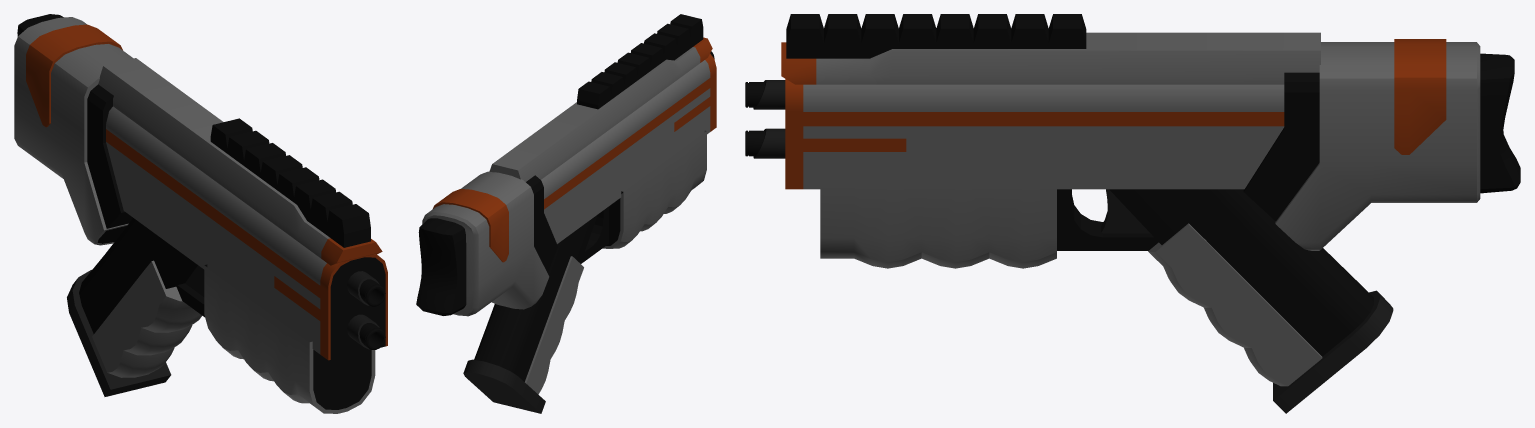
File: Pistol_3.fbx
The picture shows the model from 3 angles, left to right: view 1: azimuth 30°, elevation 25°; view 2: azimuth 150°, elevation 25°; view 3: azimuth 270°, elevation 25°; orthographic projection. The views are drawn at different scales.
Parts seen in each view (by area): view 1: Pistol_3; view 2: Pistol_3; view 3: Pistol_3.
Boxes of the visible parts, x1,y1,x2,y2 form: Pistol_3: (14, 14, 387, 413); Pistol_3: (416, 14, 716, 413); Pistol_3: (745, 14, 1520, 413).
Size of the model in its own units: 0.114 by 0.4864 by 0.9094.
